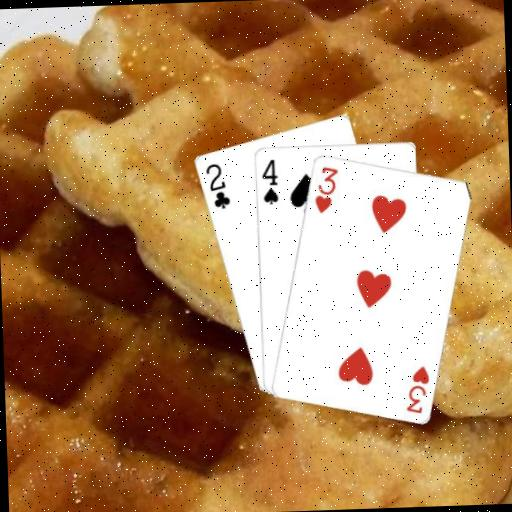2C: (202, 159, 231, 210)
3H: (401, 362, 432, 415), (310, 162, 341, 214)
4S: (257, 155, 279, 206)
